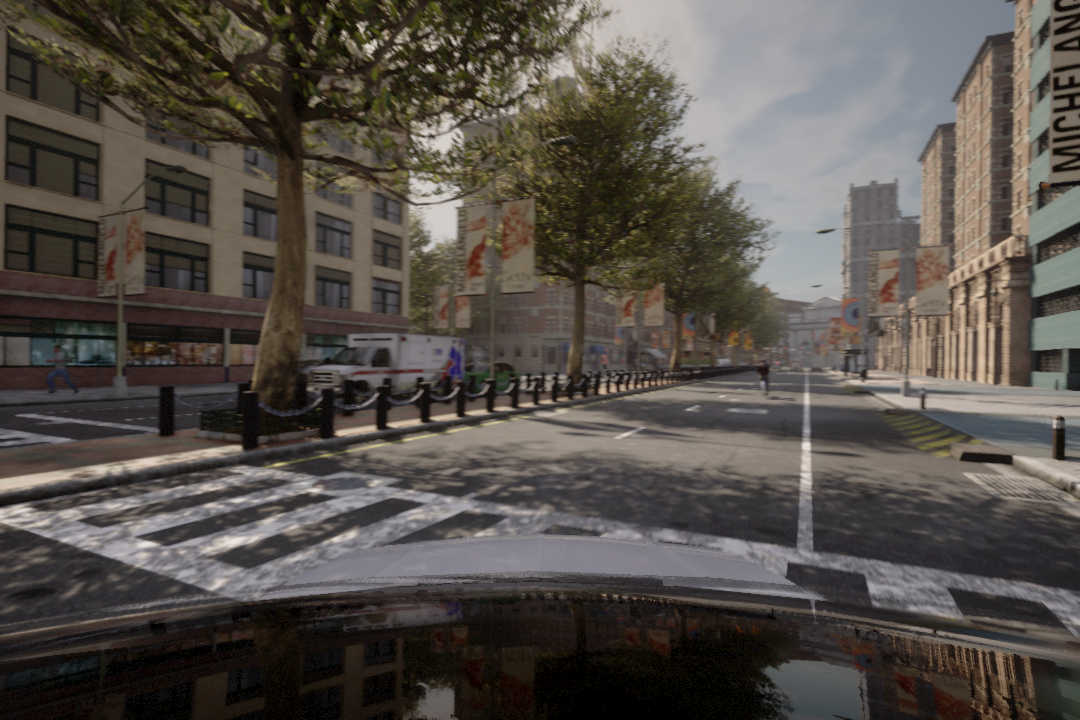walkside: (1, 461, 1077, 684)
